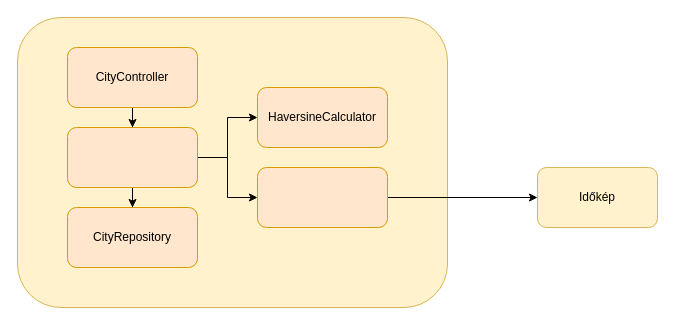
The diagram is 675 pixels wide and 325 high, and some of its shapes have lost their labels. The box of each missing label's shape, as (x1, y1, x2, y2) in pixels:
CityService: (66, 126, 198, 188)
TemperatureGateway: (256, 166, 388, 228)
